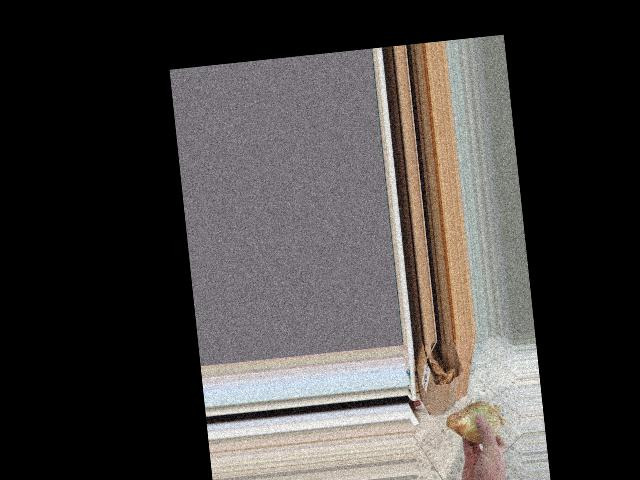onion: (443, 397, 507, 450)
